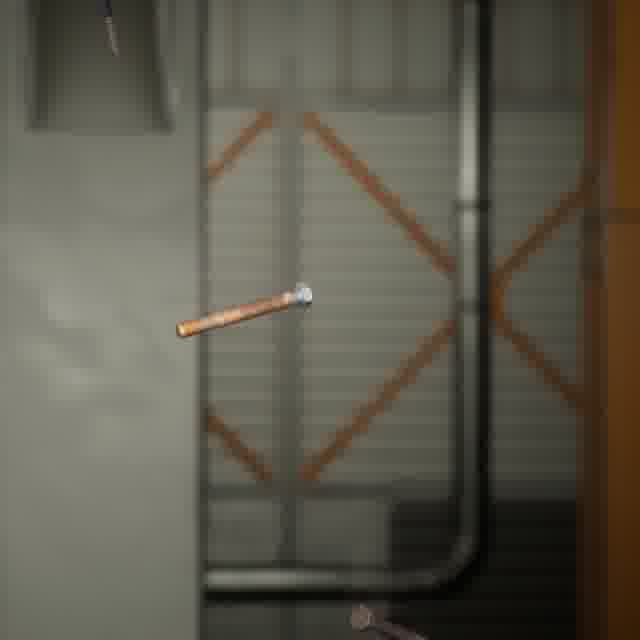bolt: (170, 277, 317, 342), (345, 599, 433, 640), (93, 0, 124, 65)
